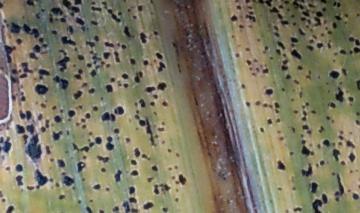tarspot: (25, 135, 42, 162), (145, 117, 155, 147), (35, 169, 47, 189), (3, 45, 16, 63), (107, 8, 121, 22), (56, 57, 68, 73), (34, 83, 48, 95), (61, 35, 76, 46), (337, 172, 344, 195), (289, 48, 302, 60), (301, 164, 313, 177), (312, 199, 323, 213), (335, 86, 344, 103), (9, 22, 21, 34), (3, 136, 11, 153), (21, 62, 33, 73), (112, 48, 120, 64), (96, 154, 110, 163), (331, 148, 340, 162), (156, 61, 166, 73), (300, 145, 310, 157), (50, 7, 63, 16), (123, 25, 132, 38), (15, 123, 25, 134), (114, 105, 125, 115), (345, 139, 356, 149), (63, 176, 74, 186), (84, 40, 96, 49), (113, 171, 122, 183), (61, 77, 69, 90), (179, 173, 187, 186), (52, 130, 62, 140), (56, 158, 66, 168), (75, 16, 85, 26), (276, 160, 286, 170), (77, 161, 86, 172), (23, 22, 31, 34), (39, 67, 51, 75), (139, 32, 147, 44), (245, 15, 257, 23), (268, 6, 280, 14), (313, 15, 321, 27), (122, 201, 130, 213), (16, 175, 24, 187), (26, 124, 35, 134), (73, 90, 82, 100), (145, 85, 156, 93), (348, 151, 356, 162), (25, 109, 32, 121), (153, 183, 160, 195), (14, 163, 23, 172), (52, 75, 61, 84), (53, 114, 62, 123), (62, 1, 71, 10), (101, 112, 110, 121), (105, 142, 114, 151), (32, 28, 40, 38), (105, 83, 113, 93), (141, 153, 151, 161), (298, 27, 306, 37), (329, 71, 339, 79), (143, 201, 153, 209), (5, 205, 15, 213), (78, 146, 89, 153), (104, 42, 115, 49), (155, 51, 163, 60), (134, 72, 140, 84), (120, 72, 129, 80), (158, 83, 167, 91), (229, 14, 238, 22), (312, 182, 318, 194), (29, 53, 39, 60), (67, 24, 74, 34), (72, 142, 79, 152), (95, 135, 102, 145), (70, 6, 80, 13), (139, 97, 146, 107), (278, 39, 285, 49), (305, 70, 312, 80), (91, 183, 101, 190), (322, 193, 328, 204), (89, 7, 102, 12), (303, 10, 311, 18), (334, 14, 342, 22), (352, 192, 360, 200), (34, 44, 41, 53), (58, 49, 67, 56), (67, 110, 76, 117), (73, 73, 82, 80), (76, 54, 85, 61), (104, 50, 111, 59), (109, 113, 116, 122), (164, 183, 171, 192), (128, 186, 135, 195), (134, 147, 140, 157), (263, 44, 269, 54), (15, 38, 23, 45), (9, 76, 17, 83), (137, 4, 144, 12), (129, 57, 136, 65), (129, 159, 137, 166), (265, 88, 273, 95), (266, 117, 273, 125), (281, 58, 289, 65), (316, 41, 323, 49), (338, 48, 346, 55), (329, 101, 337, 108), (323, 139, 330, 147), (129, 197, 137, 204), (27, 185, 35, 192), (26, 1, 35, 7), (45, 145, 51, 154), (90, 20, 99, 26), (102, 1, 108, 10), (275, 47, 281, 56), (129, 170, 138, 176), (23, 134, 28, 144), (19, 112, 26, 119), (84, 112, 91, 119), (88, 141, 95, 148), (139, 120, 146, 127), (151, 165, 158, 172), (285, 73, 292, 80), (147, 176, 154, 183), (112, 206, 119, 213), (86, 206, 93, 213), (19, 73, 27, 79), (35, 12, 41, 20), (59, 18, 67, 24), (275, 116, 281, 124), (265, 1, 273, 7), (278, 12, 284, 20), (281, 20, 289, 26), (290, 37, 298, 43), (306, 45, 314, 51), (354, 46, 360, 54), (301, 124, 309, 130), (58, 194, 66, 200), (259, 125, 264, 134), (298, 90, 303, 99), (37, 113, 43, 120), (4, 165, 11, 171), (39, 126, 46, 132), (40, 102, 46, 109), (77, 68, 84, 74), (81, 82, 88, 88), (79, 117, 86, 123), (90, 70, 96, 77), (68, 11, 75, 17), (100, 60, 107, 66), (121, 44, 128, 50), (142, 60, 149, 66), (132, 101, 139, 107), (171, 41, 177, 48), (113, 127, 120, 133), (124, 137, 130, 144), (106, 136, 113, 142), (173, 163, 179, 170), (263, 68, 269, 75), (244, 46, 251, 52), (274, 102, 280, 109), (268, 103, 274, 110), (281, 64, 288, 70), (294, 79, 300, 86), (293, 1, 299, 8), (332, 22, 338, 29), (316, 11, 323, 17), (354, 38, 360, 45), (357, 78, 360, 92), (318, 127, 325, 133), (334, 190, 340, 197), (291, 185, 297, 192), (45, 120, 50, 128), (162, 100, 167, 108), (256, 65, 261, 73), (327, 41, 332, 49), (342, 68, 347, 76), (294, 207, 302, 212), (131, 208, 139, 213), (92, 106, 98, 112), (89, 88, 95, 94), (86, 62, 92, 68), (81, 26, 87, 32), (74, 1, 83, 5), (92, 60, 98, 66), (153, 93, 159, 99), (240, 83, 246, 89), (278, 135, 284, 141), (288, 150, 294, 156), (273, 25, 279, 31), (274, 32, 280, 38), (348, 35, 354, 41), (331, 57, 337, 63), (302, 110, 308, 116), (301, 116, 307, 122), (11, 69, 18, 74), (51, 30, 58, 35), (94, 35, 99, 42), (106, 62, 111, 69), (134, 115, 141, 120), (157, 126, 164, 131), (247, 24, 254, 29), (246, 101, 251, 108), (309, 38, 314, 45), (349, 96, 354, 103), (305, 100, 310, 107), (355, 119, 360, 126), (338, 133, 343, 140), (292, 126, 296, 134), (316, 161, 320, 169), (275, 187, 283, 191), (21, 97, 27, 102), (78, 104, 84, 109), (81, 124, 87, 129), (153, 31, 159, 36), (124, 83, 129, 89), (152, 111, 158, 116), (161, 140, 166, 146), (167, 148, 172, 154), (100, 167, 106, 172), (168, 166, 173, 172), (236, 5, 242, 10), (246, 60, 252, 65), (247, 5, 253, 10), (251, 72, 257, 77), (255, 100, 260, 106), (262, 102, 268, 107), (279, 3, 284, 9), (293, 110, 299, 115), (300, 4, 305, 10), (300, 16, 306, 21), (309, 3, 315, 8), (332, 1, 337, 7), (336, 2, 341, 8), (312, 34, 318, 39), (306, 129, 311, 135), (300, 139, 306, 144), (320, 160, 325, 166), (174, 197, 179, 203), (163, 207, 168, 213), (92, 55, 99, 59), (116, 41, 120, 48), (139, 71, 143, 78), (248, 11, 255, 15), (284, 1, 291, 5), (349, 49, 353, 56), (50, 176, 54, 183), (39, 38, 44, 43), (42, 43, 47, 48), (49, 18, 54, 23), (39, 75, 44, 80), (20, 91, 25, 96), (11, 95, 16, 100), (6, 126, 11, 131), (59, 108, 64, 113), (50, 157, 55, 162), (65, 130, 70, 135), (75, 121, 80, 126), (88, 131, 93, 136), (117, 11, 122, 16), (117, 82, 122, 87), (99, 96, 104, 101), (67, 117, 72, 122), (150, 101, 155, 106), (161, 121, 166, 126), (175, 152, 180, 157), (230, 34, 235, 39), (253, 58, 258, 63), (282, 52, 287, 57), (281, 87, 286, 92), (290, 43, 295, 48), (292, 21, 297, 26), (286, 7, 291, 12), (307, 19, 312, 24), (321, 7, 326, 12), (344, 13, 349, 18), (327, 30, 332, 35), (339, 130, 344, 135), (341, 161, 346, 166), (348, 130, 353, 135), (332, 142, 337, 147), (330, 171, 335, 176), (335, 197, 340, 202), (175, 180, 180, 185), (171, 175, 176, 180), (89, 198, 94, 203), (77, 199, 82, 204), (1, 1, 4, 9), (55, 16, 59, 22), (74, 46, 78, 52), (132, 15, 138, 19), (110, 78, 116, 82), (155, 133, 159, 139), (274, 110, 280, 114), (276, 130, 282, 134), (297, 66, 303, 70), (320, 1, 328, 4), (323, 19, 327, 25), (310, 110, 316, 114), (326, 115, 330, 121), (331, 118, 335, 124), (311, 150, 315, 156), (175, 187, 179, 193), (106, 186, 110, 192), (98, 209, 104, 213), (56, 182, 60, 188), (1, 136, 4, 143), (258, 1, 265, 4), (3, 18, 7, 23), (41, 8, 46, 12), (52, 106, 57, 110), (48, 13, 53, 17), (72, 63, 77, 67), (91, 1, 96, 5), (89, 50, 94, 54), (95, 66, 100, 70), (127, 8, 131, 13), (135, 109, 140, 113), (239, 24, 244, 28), (236, 53, 240, 58), (256, 37, 260, 42), (249, 67, 253, 72), (269, 56, 274, 60), (290, 98, 294, 103), (291, 13, 295, 18), (344, 20, 348, 25), (356, 12, 360, 17), (320, 32, 324, 37), (325, 81, 329, 86), (338, 81, 343, 85), (301, 105, 306, 109), (356, 111, 360, 116), (300, 133, 304, 138), (346, 189, 351, 193), (349, 169, 353, 174), (285, 209, 290, 213), (81, 177, 85, 182), (62, 171, 66, 176), (2, 198, 6, 203), (245, 1, 251, 4), (306, 23, 309, 29), (318, 74, 321, 80), (337, 142, 343, 145), (318, 144, 321, 150), (1, 189, 3, 198), (334, 52, 338, 56), (325, 26, 328, 31), (149, 1, 154, 4), (18, 69, 22, 72), (83, 156, 87, 159), (328, 90, 331, 94), (358, 184, 360, 190), (160, 183, 163, 187), (72, 187, 76, 190), (123, 1, 127, 4), (1, 144, 2, 153), (301, 1, 305, 3)
